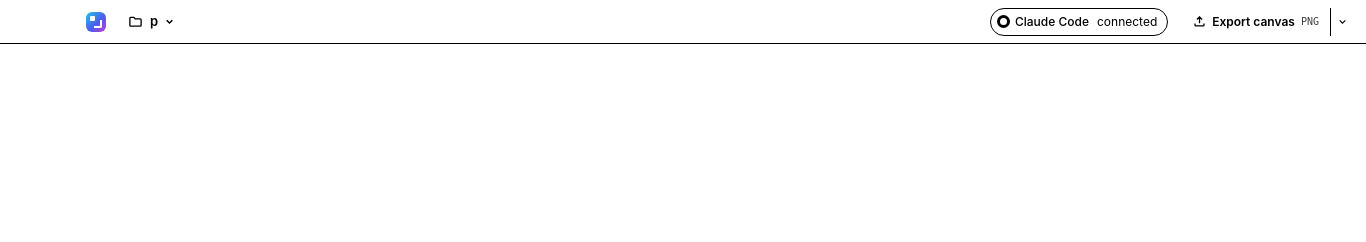
Scenario: TitleBar export options › says PNG is lossless and leaves its quality alone
Click the button named "Export options". click: (1342, 22)
box: [1330,8,1354,36]
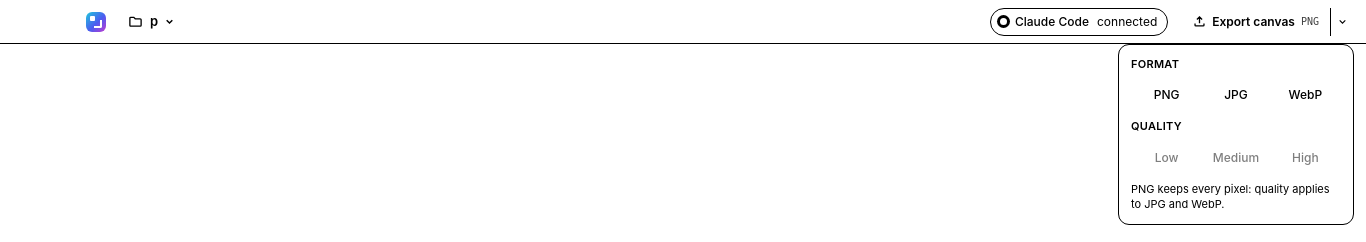
Expected: the text "PNG keeps every pixel: quality applies to JPG and WebP." is shown, [1131,182,1341,212]
Expected: the button "Low" is disabled, [1133,146,1200,170]
